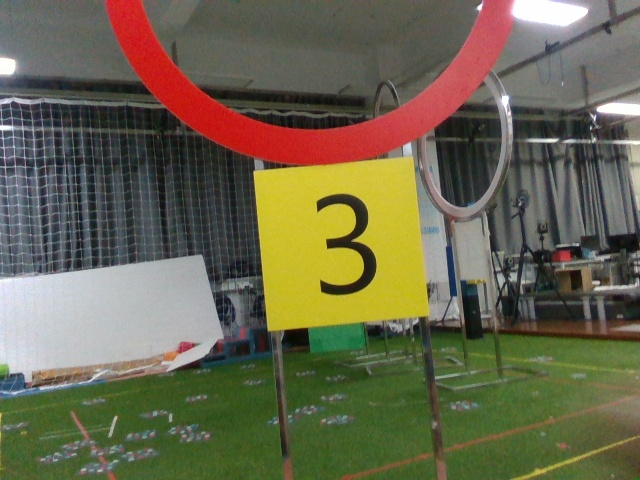target: (266, 169, 426, 319)
